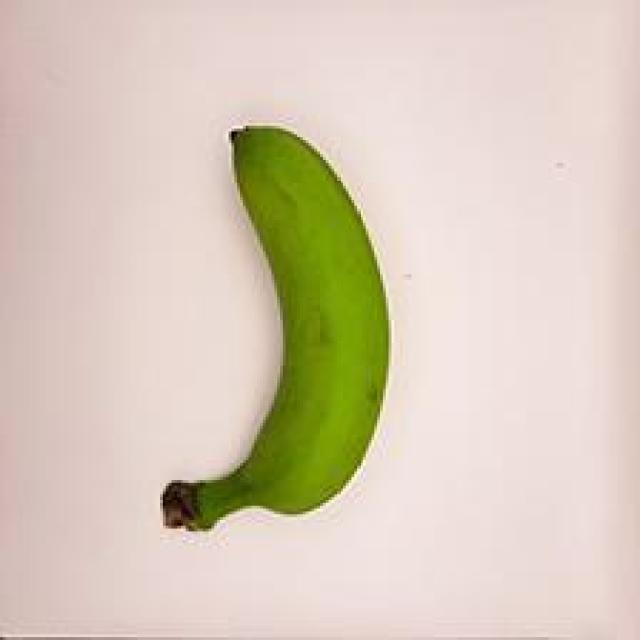Raw: (138, 91, 404, 560)
